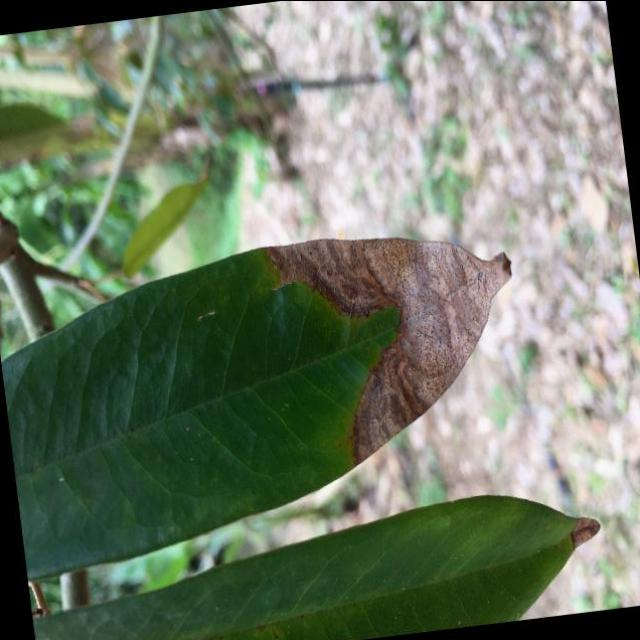Leaf Blight: (0, 210, 555, 589)
